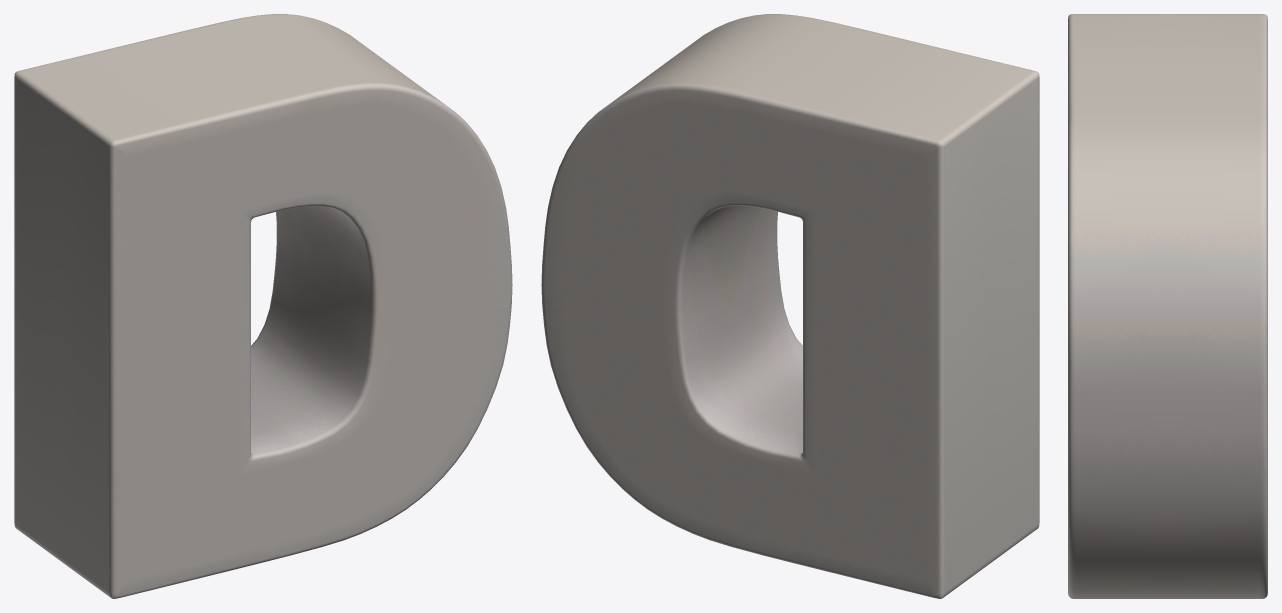
3 renders of one model, left to right at view 1: azimuth 30°, elevation 25°; view 2: azimuth 150°, elevation 25°; view 3: azimuth 270°, elevation 25°, orthographic.
Visible parts, largest first — view 1: node_id30; view 2: node_id30; view 3: node_id30.
Boxes of the visible parts, box(x1,y1,x2,y2) form: node_id30: box(14, 14, 512, 598); node_id30: box(541, 14, 1039, 598); node_id30: box(1068, 14, 1267, 598).
Bounding box in the file's own units: 0.4708 × 0.512 × 0.2015.
Materials: 1 (1 with a texture image).
